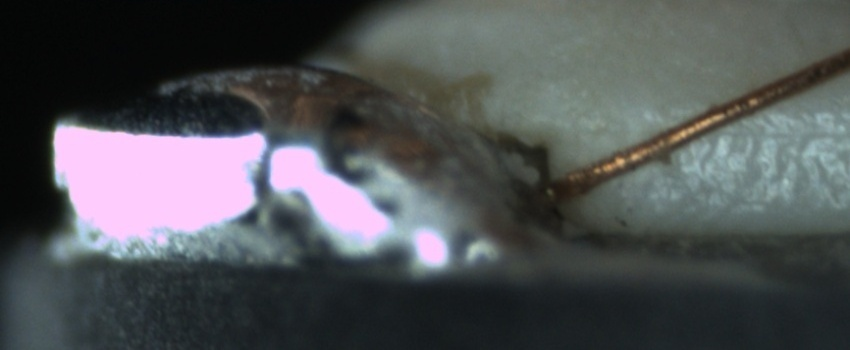DL: (632, 89, 850, 160)
